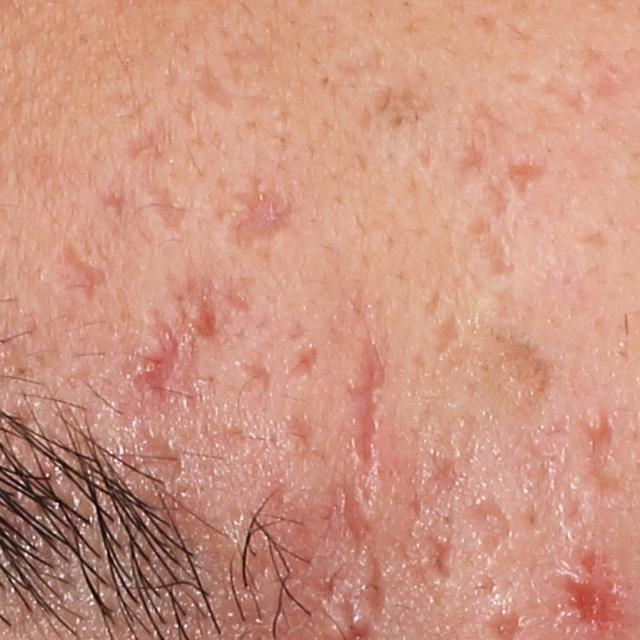atrophic_scar: (536, 49, 626, 116), (227, 175, 296, 257), (131, 305, 183, 408), (351, 324, 384, 480), (41, 234, 113, 302), (576, 408, 630, 495), (336, 477, 383, 552), (136, 178, 190, 234), (464, 495, 511, 557), (139, 428, 191, 482), (187, 62, 238, 112), (328, 41, 388, 82), (122, 119, 175, 163), (237, 345, 278, 400), (475, 226, 515, 275), (361, 555, 388, 627), (427, 308, 465, 357), (509, 163, 550, 202), (98, 186, 136, 226), (427, 534, 456, 584), (283, 342, 318, 383), (579, 225, 608, 255)
